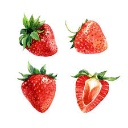strawberry: (16, 60, 58, 114), (17, 13, 59, 58), (71, 69, 111, 114), (67, 18, 109, 55)
